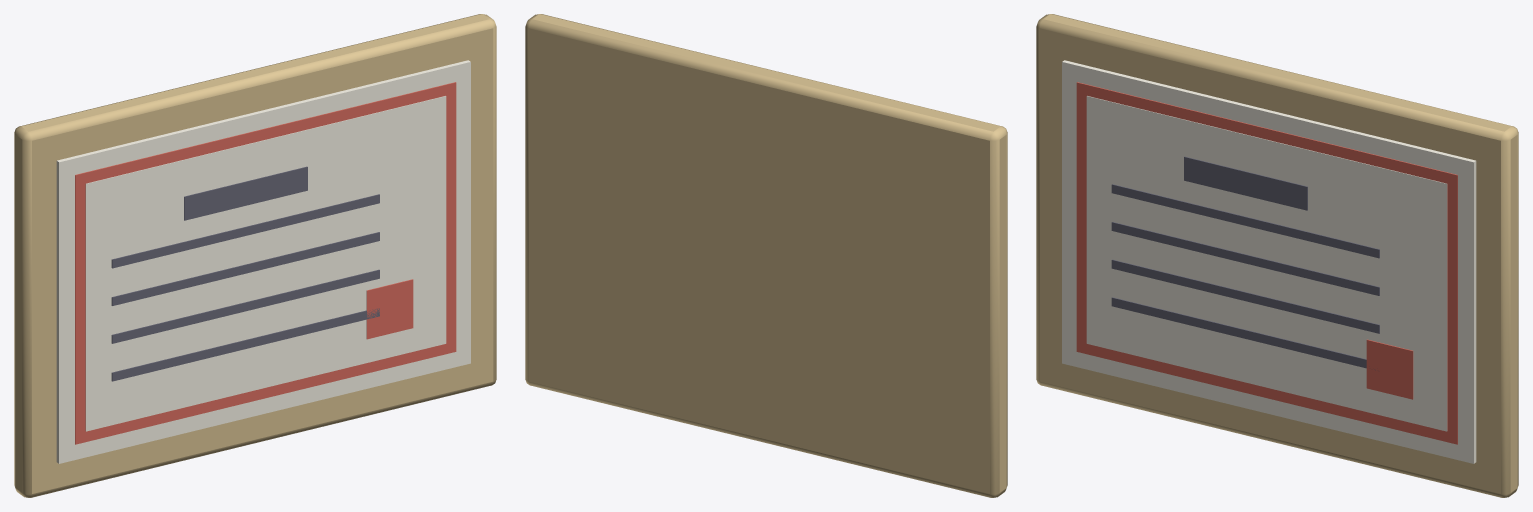
The model's file is dn_award.fbx.
The picture shows the model from 3 angles, left to right: view 1: azimuth 30°, elevation 25°; view 2: azimuth 150°, elevation 25°; view 3: azimuth 330°, elevation 25°; orthographic projection.
Visible parts, largest first — view 1: Inner, Frame.001, Paper, Border, Line, Line.003, Line.001, Line.002, Line.004, Seal; view 2: Frame.001; view 3: Inner, Frame.001, Paper, Border, Line, Line.003, Line.002, Line.001, Line.004, Seal.
Boxes of the visible parts, left/top/right/bottom form: Inner: left=85, top=96, right=446, bottom=431; Frame.001: left=14, top=14, right=496, bottom=497; Paper: left=56, top=60, right=470, bottom=463; Border: left=75, top=82, right=456, bottom=444; Line: left=184, top=166, right=307, bottom=220; Line.003: left=111, top=269, right=379, bottom=343; Line.001: left=111, top=194, right=379, bottom=268; Line.002: left=111, top=232, right=379, bottom=305; Line.004: left=111, top=308, right=379, bottom=381; Seal: left=366, top=279, right=413, bottom=339; Frame.001: left=525, top=14, right=1007, bottom=497; Inner: left=1086, top=96, right=1447, bottom=431; Frame.001: left=1036, top=14, right=1518, bottom=497; Paper: left=1062, top=60, right=1476, bottom=463; Border: left=1076, top=82, right=1457, bottom=444; Line: left=1184, top=156, right=1307, bottom=210; Line.003: left=1111, top=259, right=1379, bottom=333; Line.002: left=1111, top=222, right=1379, bottom=295; Line.001: left=1111, top=184, right=1379, bottom=258; Line.004: left=1111, top=297, right=1375, bottom=370; Seal: left=1366, top=339, right=1413, bottom=399.
Size of the model in its own units: 0.46 by 0.34 by 0.031.
